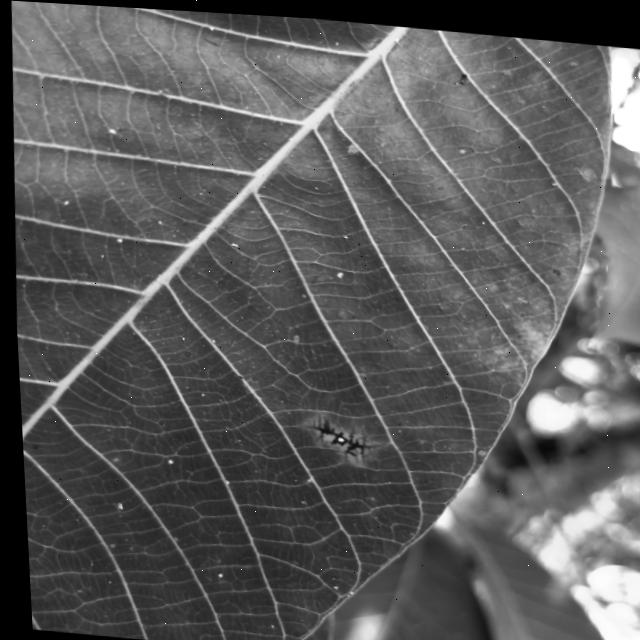Corynespora: (294, 407, 380, 460)
